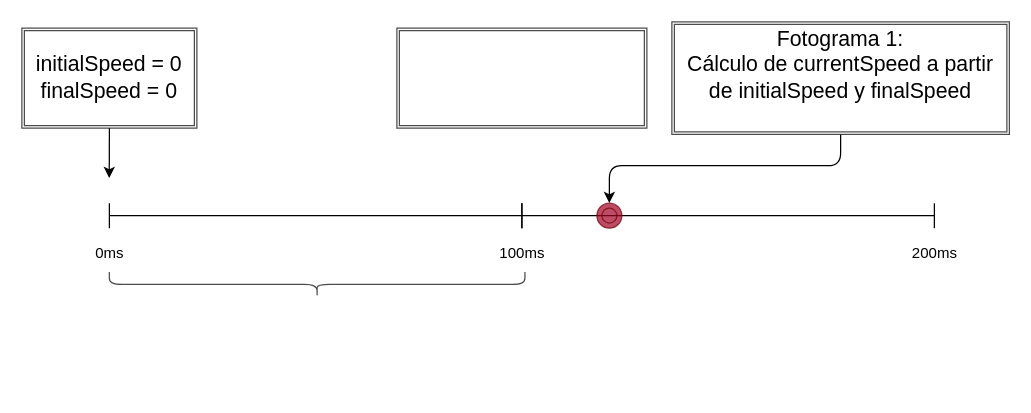
This 1031x413 diagram has some shape labels left out. The box of each missing label's shape, as (x1, y1, x2, y2) in pixels:
initialSpeed = 0 finalSpeed = newSpeed: (396, 27, 647, 128)
Retardo de 100ms mientras se espera el primer paquete de datos: (108, 271, 525, 297)
